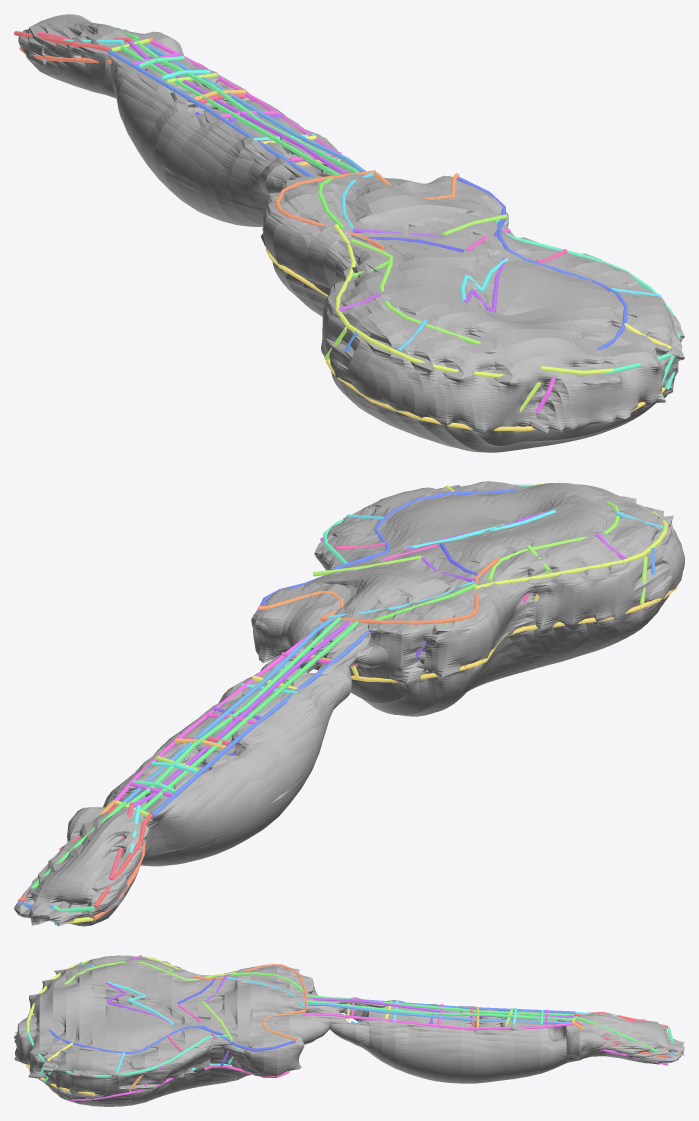
File: author2_guitar.gltf
The picture shows the model from 3 angles, top to bottom: view 1: azimuth 30°, elevation 25°; view 2: azimuth 150°, elevation 25°; view 3: azimuth 270°, elevation 25°; orthographic projection. The views are drawn at different scales.
Size of the model in its own units: 0.3316 by 0.1527 by 0.9659.
